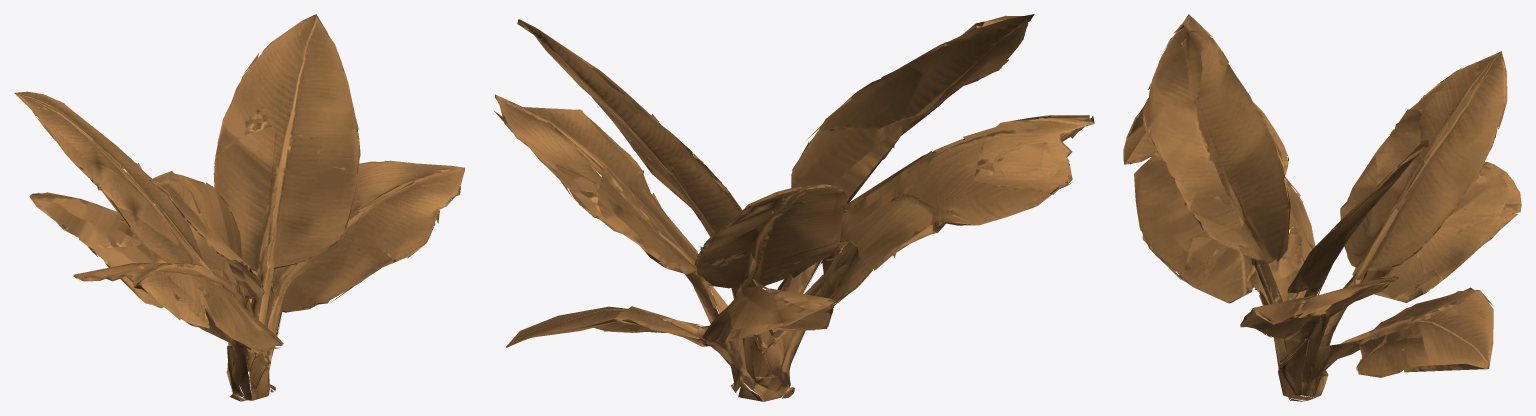
File: turtle-s04-top-droop.glb
3 views of the same model, side by side, from view 1: azimuth 30°, elevation 25°; view 2: azimuth 150°, elevation 25°; view 3: azimuth 270°, elevation 25° (orthographic). The views are drawn at different scales.
Parts seen in each view (by area): view 1: Mesh_0; view 2: Mesh_0; view 3: Mesh_0.
Boxes of the visible parts, x1,y1,x2,y2 form: Mesh_0: [14, 14, 464, 401]; Mesh_0: [494, 14, 1094, 401]; Mesh_0: [1123, 14, 1521, 401].
Size of the model in its own units: 0.1 by 0.0691 by 0.0799.
1 material, 1 textured.
